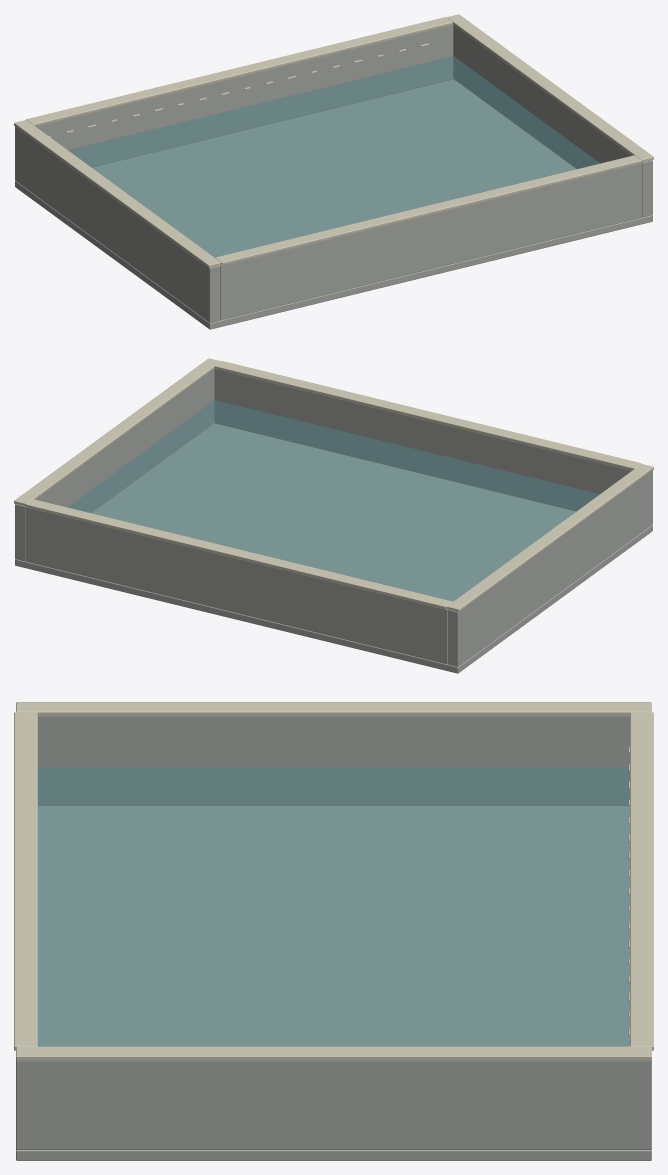
File: abandoned-tidal-model-testing-hall-recessed-test-basin-6e3d8c63__32331.glb
The picture shows the model from 3 angles, top to bottom: view 1: azimuth 30°, elevation 25°; view 2: azimuth 150°, elevation 25°; view 3: azimuth 270°, elevation 25°; orthographic projection. The views are drawn at different scales.
Parts seen in each view (by area): view 1: recessed-test-basin; view 2: recessed-test-basin; view 3: recessed-test-basin.
Part boxes in pixels (bbox=[...]): recessed-test-basin: bbox=[14, 14, 653, 329]; recessed-test-basin: bbox=[14, 358, 653, 673]; recessed-test-basin: bbox=[14, 702, 653, 1160].
Bounding box in the file's own units: 8.44 × 1.17 × 6.44.
